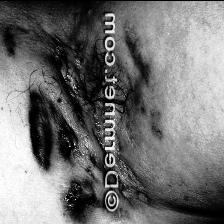Non-Cancerous Skin Condition: (0, 14, 97, 224), (120, 21, 204, 211)
